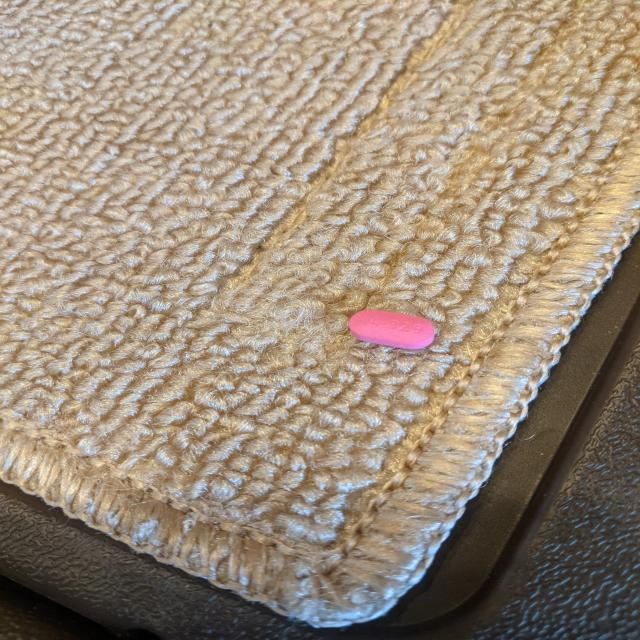non-organic waste: (348, 309, 436, 350)
